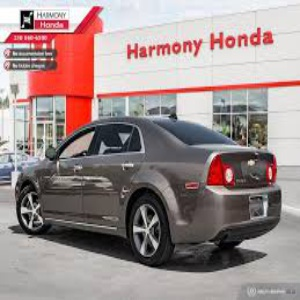door_scratch: (43, 171, 120, 223)
